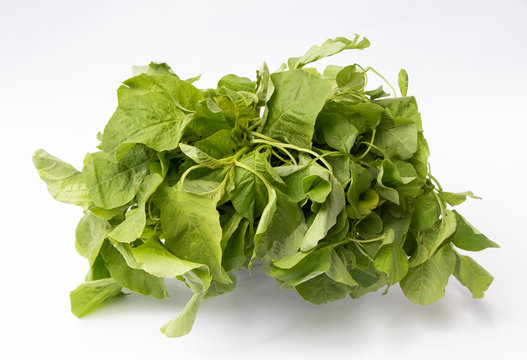Bayam: (27, 45, 507, 334)
